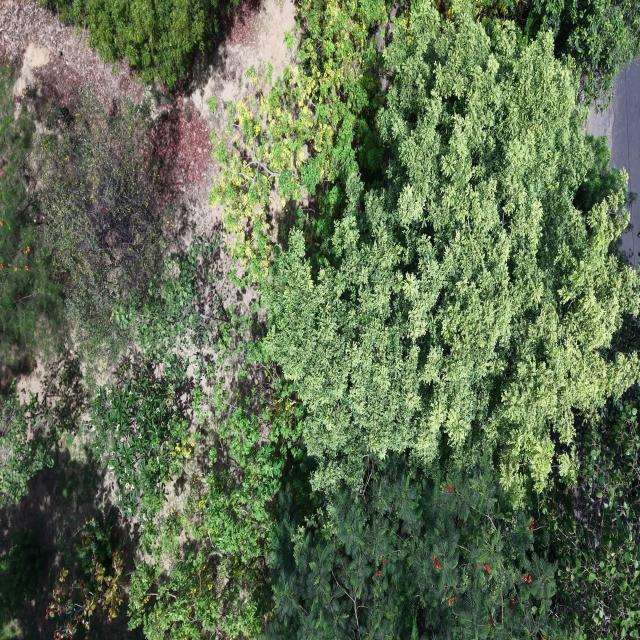DRY_AREA: (0, 0, 295, 250), (0, 0, 295, 247), (154, 0, 295, 241), (0, 0, 148, 130), (0, 0, 144, 103), (184, 0, 295, 133), (0, 0, 143, 103), (186, 0, 295, 131), (189, 0, 295, 112), (611, 59, 639, 194), (13, 44, 50, 99)
PATHWAYS: (587, 59, 639, 193)
VEGETATION_TREE: (0, 0, 639, 639), (214, 3, 637, 637), (214, 3, 637, 502), (262, 2, 638, 501), (2, 98, 298, 637), (90, 240, 299, 639), (95, 243, 299, 639), (0, 67, 163, 531), (267, 456, 561, 639), (0, 66, 165, 379), (211, 0, 392, 282), (213, 3, 386, 283), (129, 359, 300, 639), (91, 244, 221, 528), (38, 92, 164, 352), (537, 389, 639, 638), (0, 63, 58, 375), (92, 352, 197, 520), (476, 0, 639, 107), (44, 0, 237, 88), (476, 0, 639, 103), (0, 353, 85, 508), (526, 0, 639, 103), (46, 515, 123, 639), (0, 387, 57, 506), (0, 530, 48, 636), (574, 136, 636, 210)
